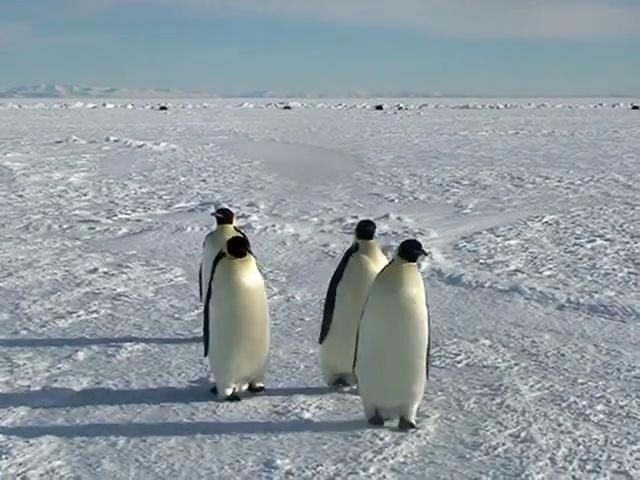animal: (354, 239, 428, 428)
